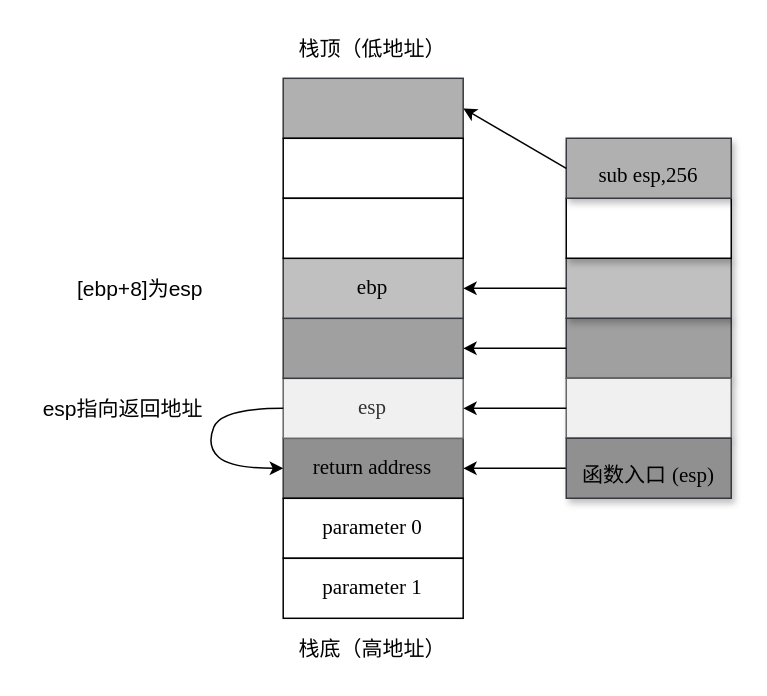
This 767x696 diagram has some shape labels left out. Here are the shapes that lost their labels. From the top down, the centre of each, then its label:
At [649,230]: "mov ebp,esp".
At [649,290]: "push ebp".
At [649,350]: "sub esp,4".
At [649,410]: "push esp".
